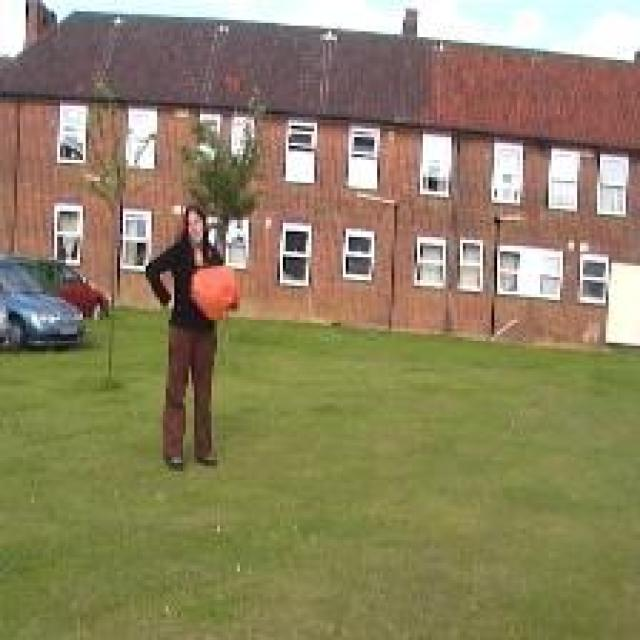other: (177, 260, 255, 322)
